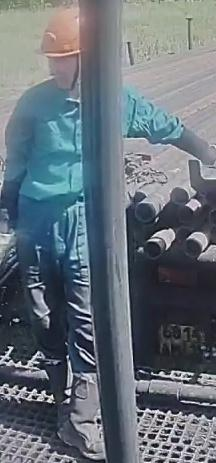gloves: (0, 222, 19, 263), (204, 140, 216, 173)
helmet: (35, 2, 83, 59)
vest: (0, 77, 84, 236)
